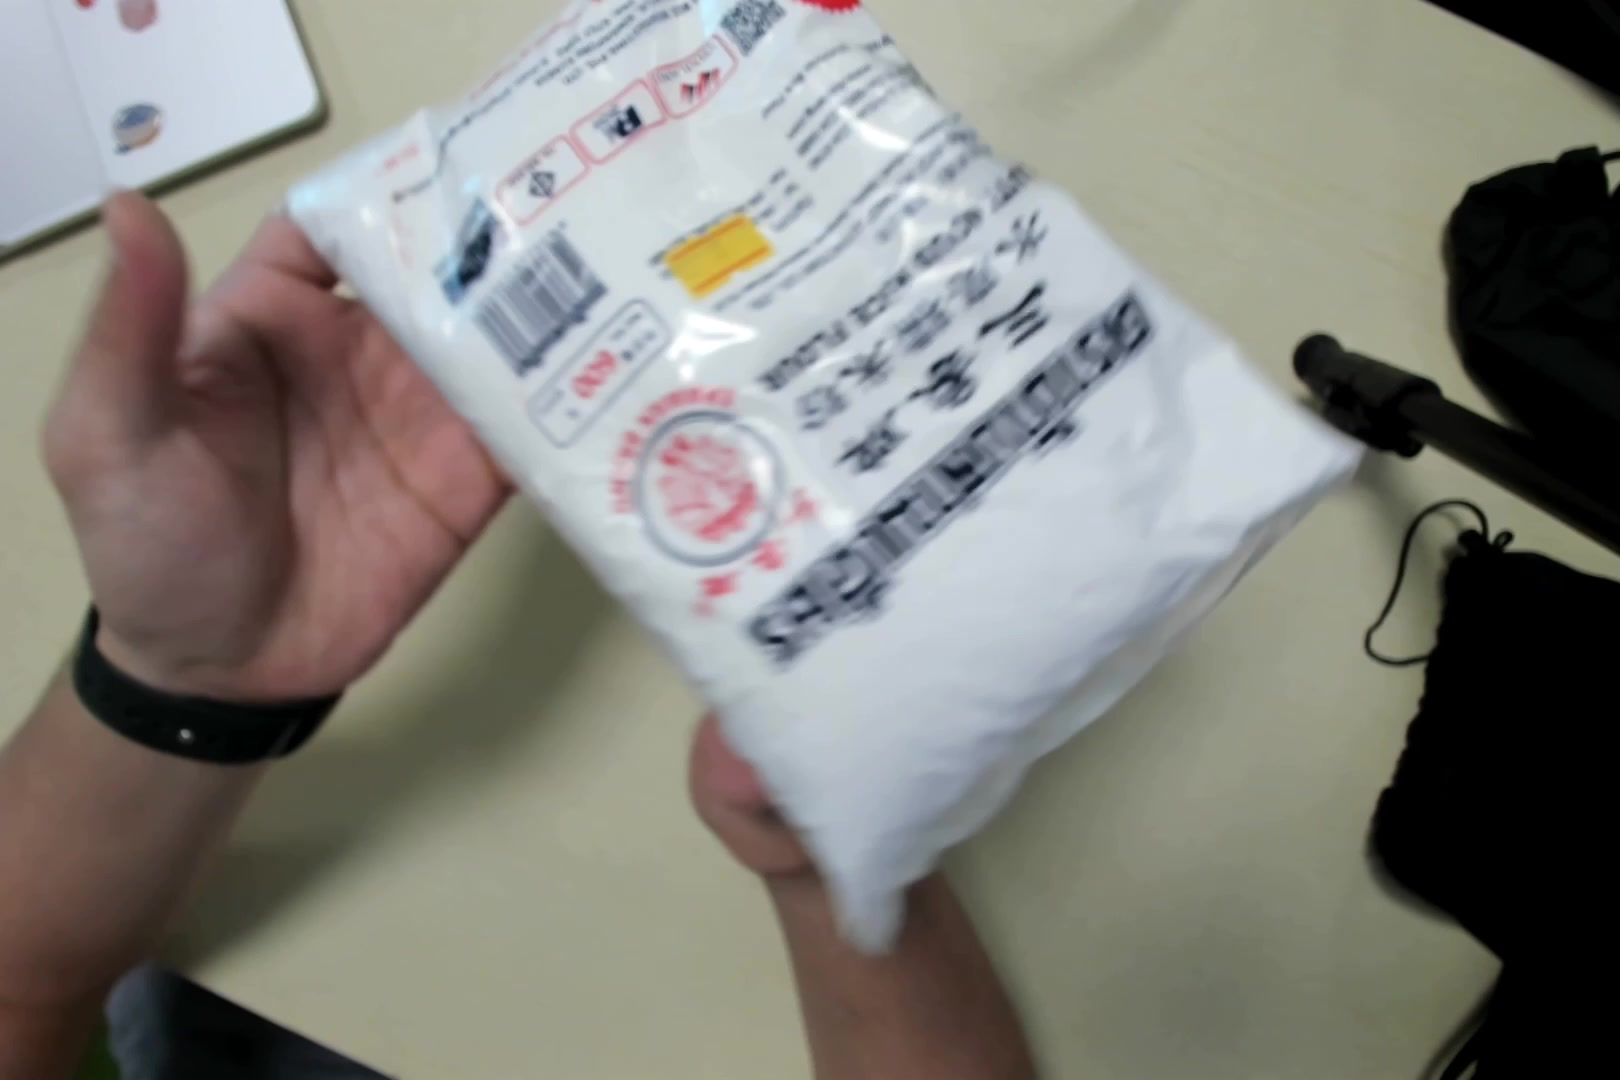OtherBakingNeeds_600-699g_Halal_NonHealthy: (278, 1, 1357, 933)
